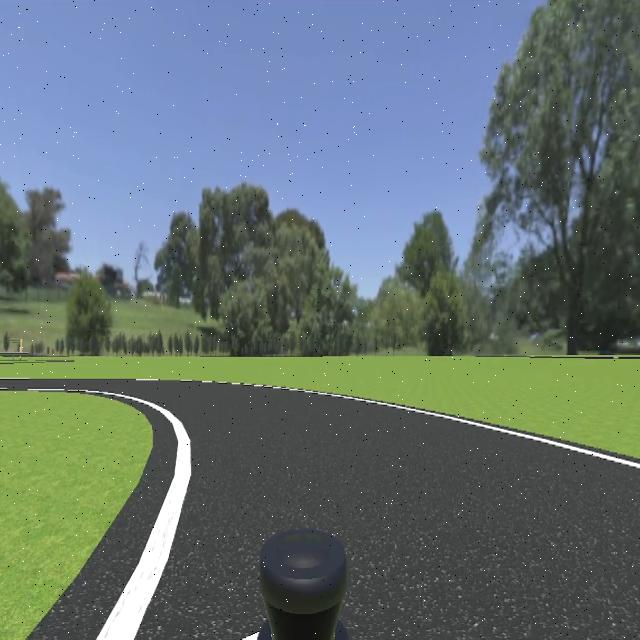road: (97, 382, 640, 640)
solid_line: (250, 383, 640, 470), (95, 393, 191, 640)
